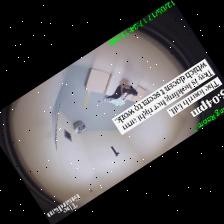person: (102, 84, 136, 100)
